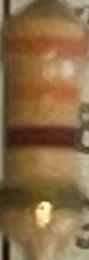Brown: (4, 127, 83, 153)
Orange: (7, 33, 86, 57), (6, 80, 84, 103)
Side-Gold: (0, 185, 87, 211)
